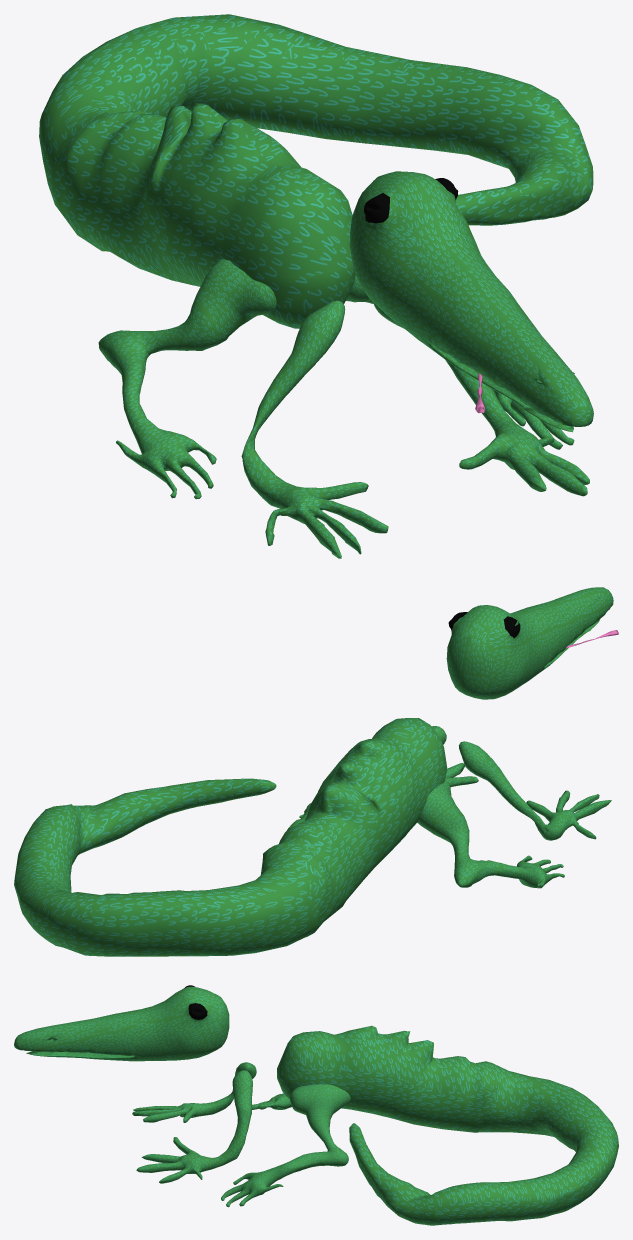
File: ch8_lizard.glb
3 views of the same model, one above another, from view 1: azimuth 30°, elevation 25°; view 2: azimuth 150°, elevation 25°; view 3: azimuth 270°, elevation 25° (orthographic). The views are drawn at different scales.
Parts seen in each view (by area): view 1: _r81, _h8, _r83, _b82, _b81, _r82; view 2: _r81, _h8, _r83, _b82, _b81; view 3: _r81, _h8, _r82, _b81, _b82, _r83.
Boxes of the visible parts, x1,y1,x2,y2 form: _r81: [39, 14, 593, 328]; _h8: [349, 171, 593, 432]; _r83: [98, 259, 276, 499]; _b82: [241, 300, 388, 558]; _b81: [373, 302, 589, 496]; _r82: [346, 275, 574, 449]; _r81: [14, 718, 447, 956]; _h8: [446, 587, 618, 699]; _r83: [417, 780, 564, 888]; _b82: [459, 741, 611, 840]; _b81: [431, 726, 478, 787]; _r81: [277, 1025, 618, 1225]; _h8: [14, 985, 229, 1061]; _r82: [221, 1084, 350, 1207]; _b81: [136, 1070, 252, 1183]; _b82: [132, 1062, 256, 1122]; _r83: [252, 1093, 291, 1109].
Bounding box in the file's own units: 2.04 × 1.1 × 3.54.
3 materials, 1 textured.
